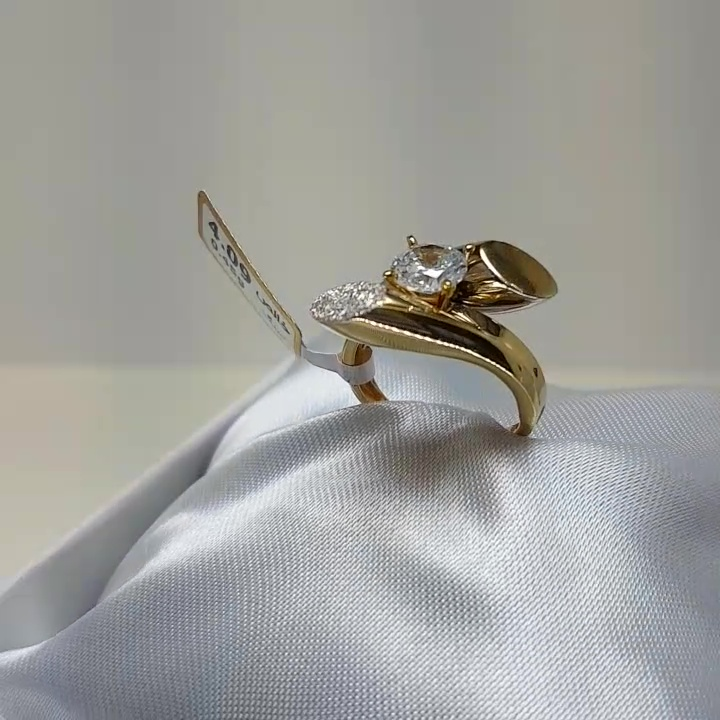Ring 7: (301, 224, 581, 449)
